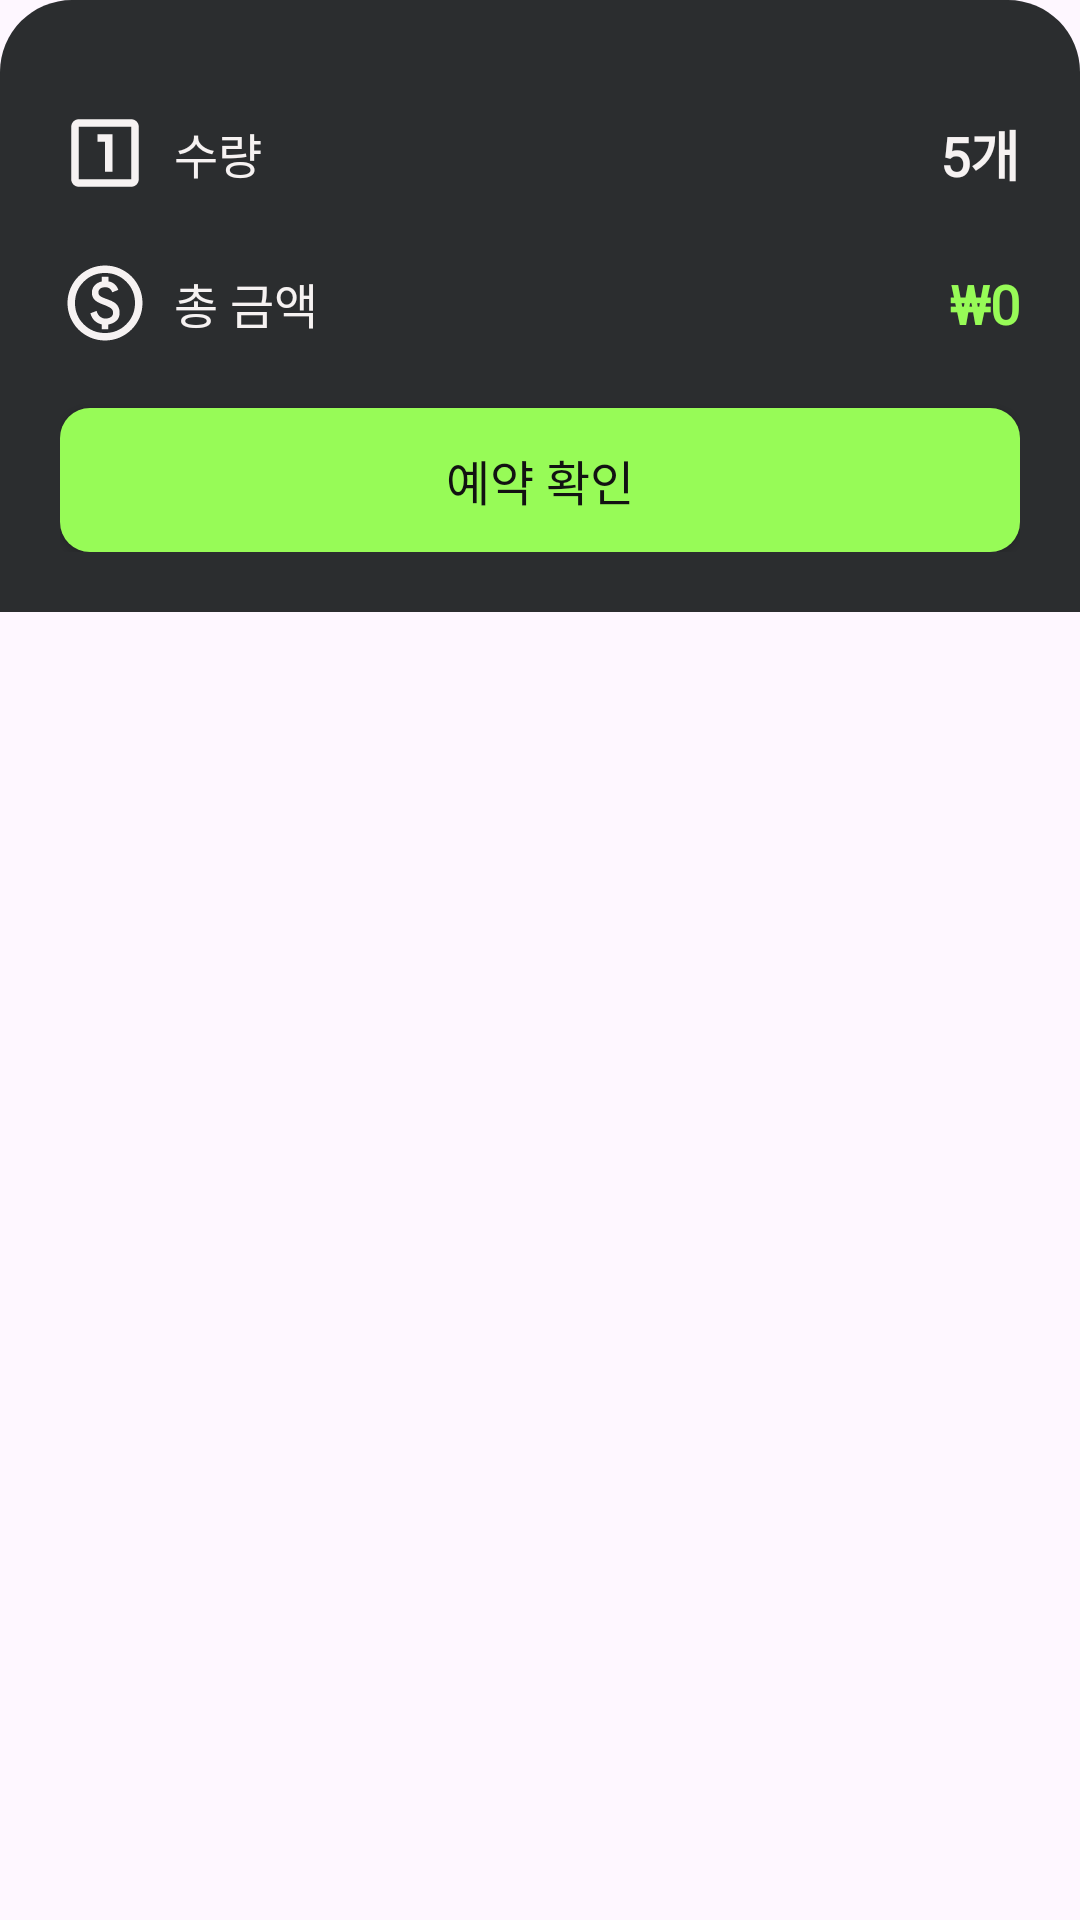

Point at icon controls on the screen. Image size 1080px×1920px, points as point (x, y).
money: point (105, 303)
